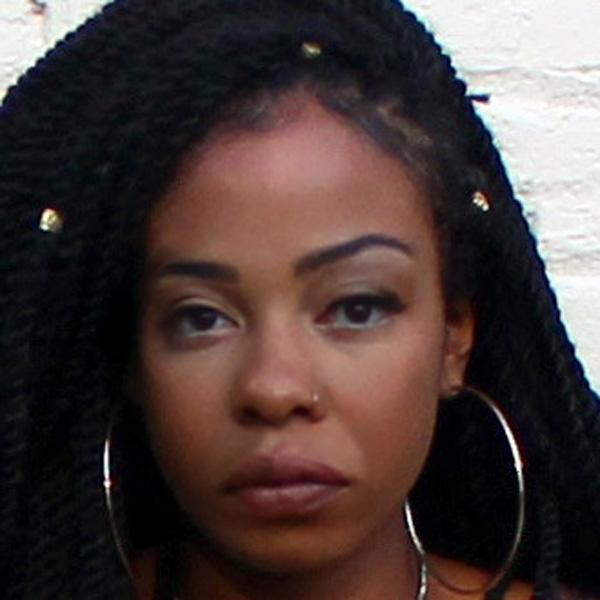Eyes: (308, 278, 415, 345), (149, 288, 246, 352)
